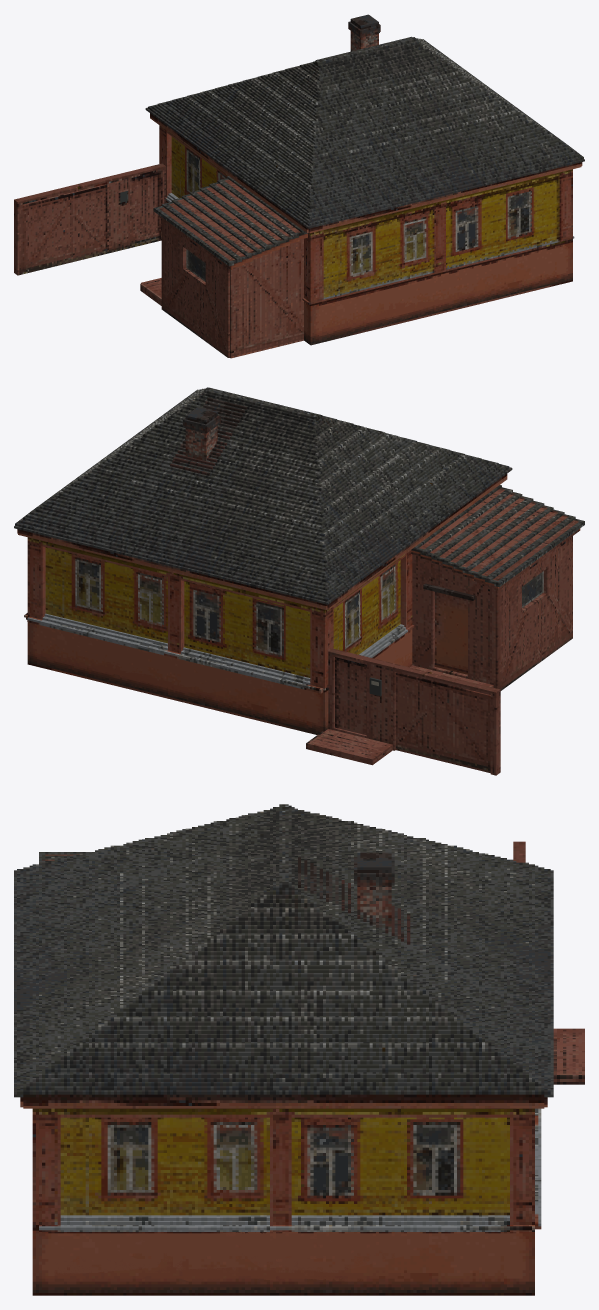
The model's file is House3.fbx.
The picture shows the model from 3 angles, top to bottom: view 1: azimuth 30°, elevation 25°; view 2: azimuth 150°, elevation 25°; view 3: azimuth 270°, elevation 25°; orthographic projection. The views are drawn at different scales.
Parts seen in each view (by area): view 1: Untitled; view 2: Untitled; view 3: Untitled.
Boxes of the visible parts, x1,y1,x2,y2 form: Untitled: [14, 14, 584, 358]; Untitled: [14, 387, 584, 775]; Untitled: [14, 804, 584, 1295].
Bounding box in the file's own units: 2560 × 1240 × 1830.
